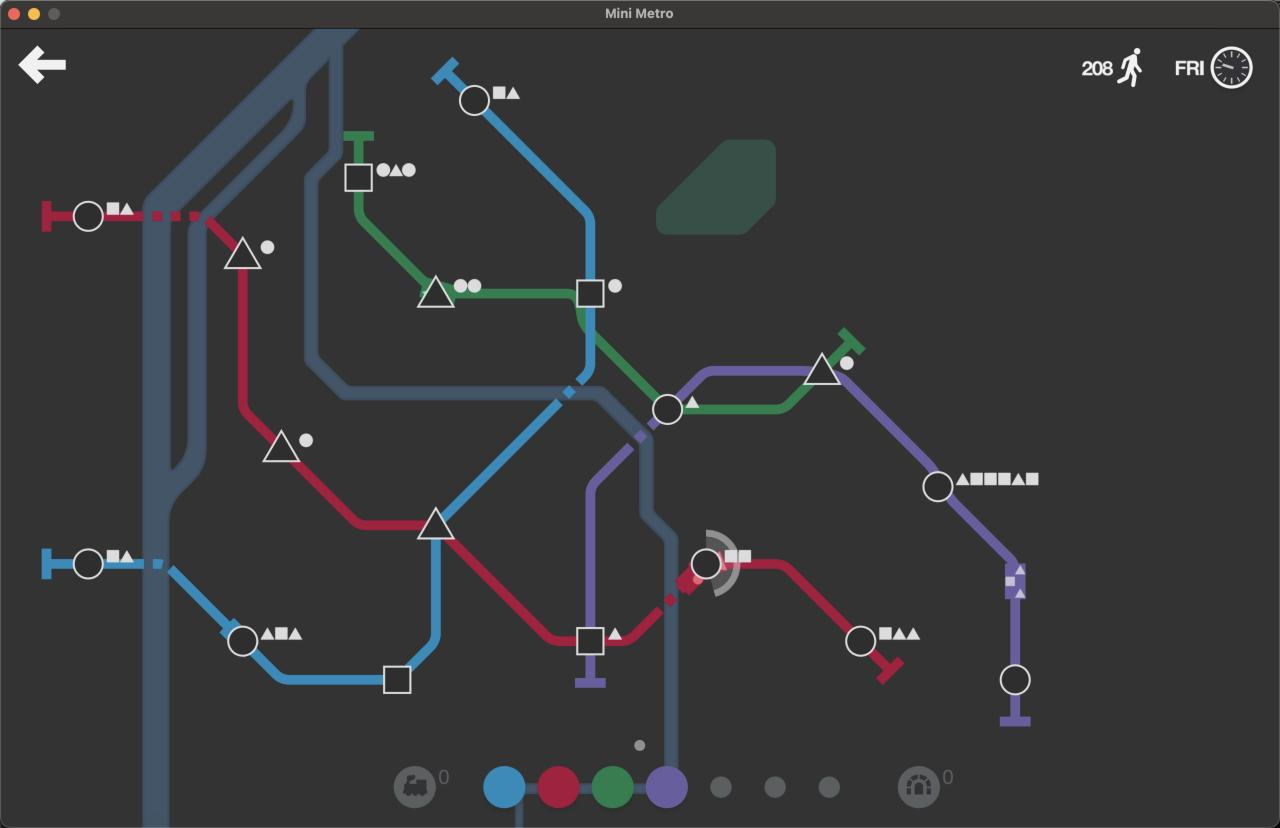CIRCLE: (651, 393, 684, 427), (690, 547, 723, 581), (226, 625, 258, 658), (999, 663, 1031, 696), (73, 200, 105, 233), (923, 470, 955, 503), (458, 84, 490, 116), (845, 624, 876, 657), (73, 547, 104, 580)
SQUARE: (382, 663, 413, 695), (575, 278, 606, 309), (575, 626, 606, 657), (344, 163, 374, 193)
TRIANGLE: (415, 505, 457, 542), (222, 235, 263, 271), (262, 428, 302, 464), (803, 350, 842, 386), (416, 274, 456, 309)
